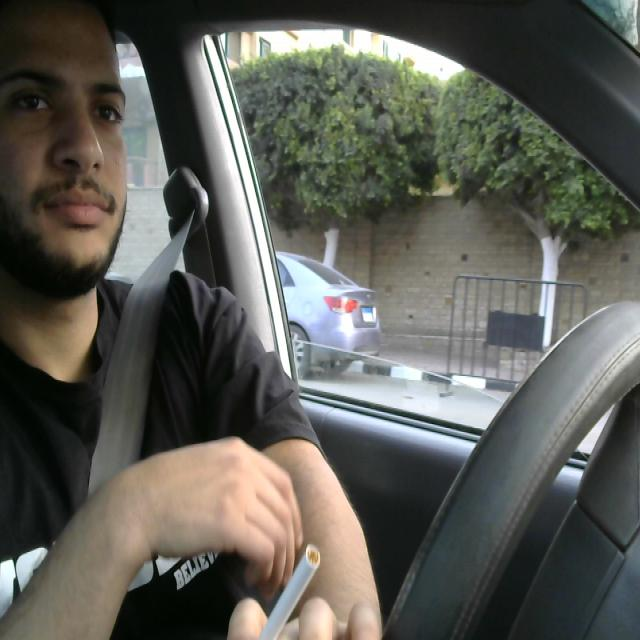smoking: (258, 541, 322, 640)
